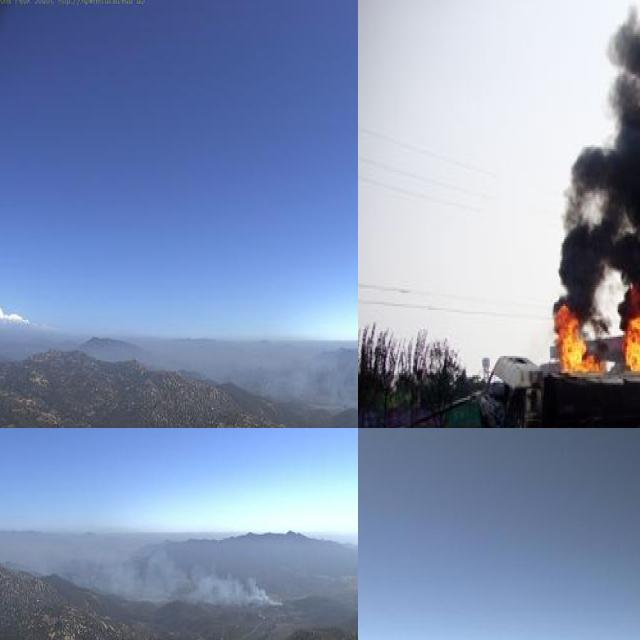fire: (554, 298, 597, 384), (624, 289, 640, 379)
smoke: (561, 0, 640, 293), (24, 527, 282, 612), (279, 355, 358, 421)
